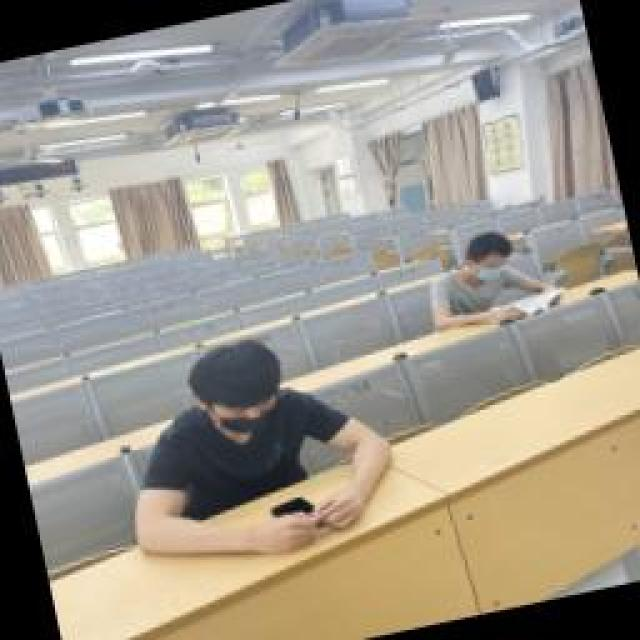phone: (100, 315, 408, 580)
study: (420, 220, 565, 338)
